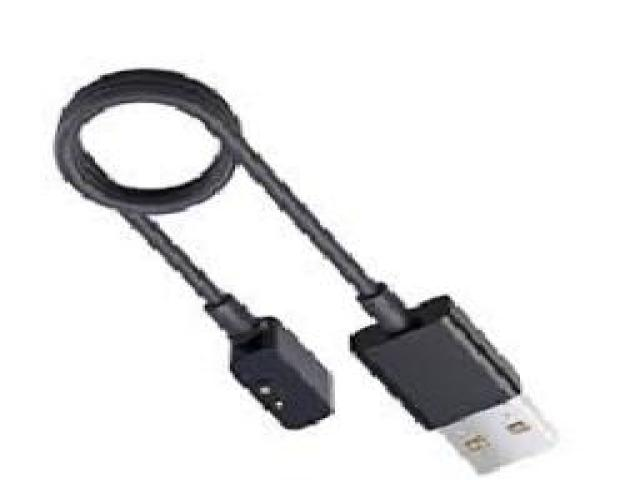wire: (50, 66, 558, 474)
